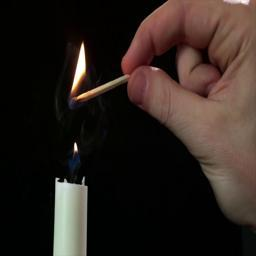fire: (71, 43, 87, 95), (73, 140, 78, 153)
